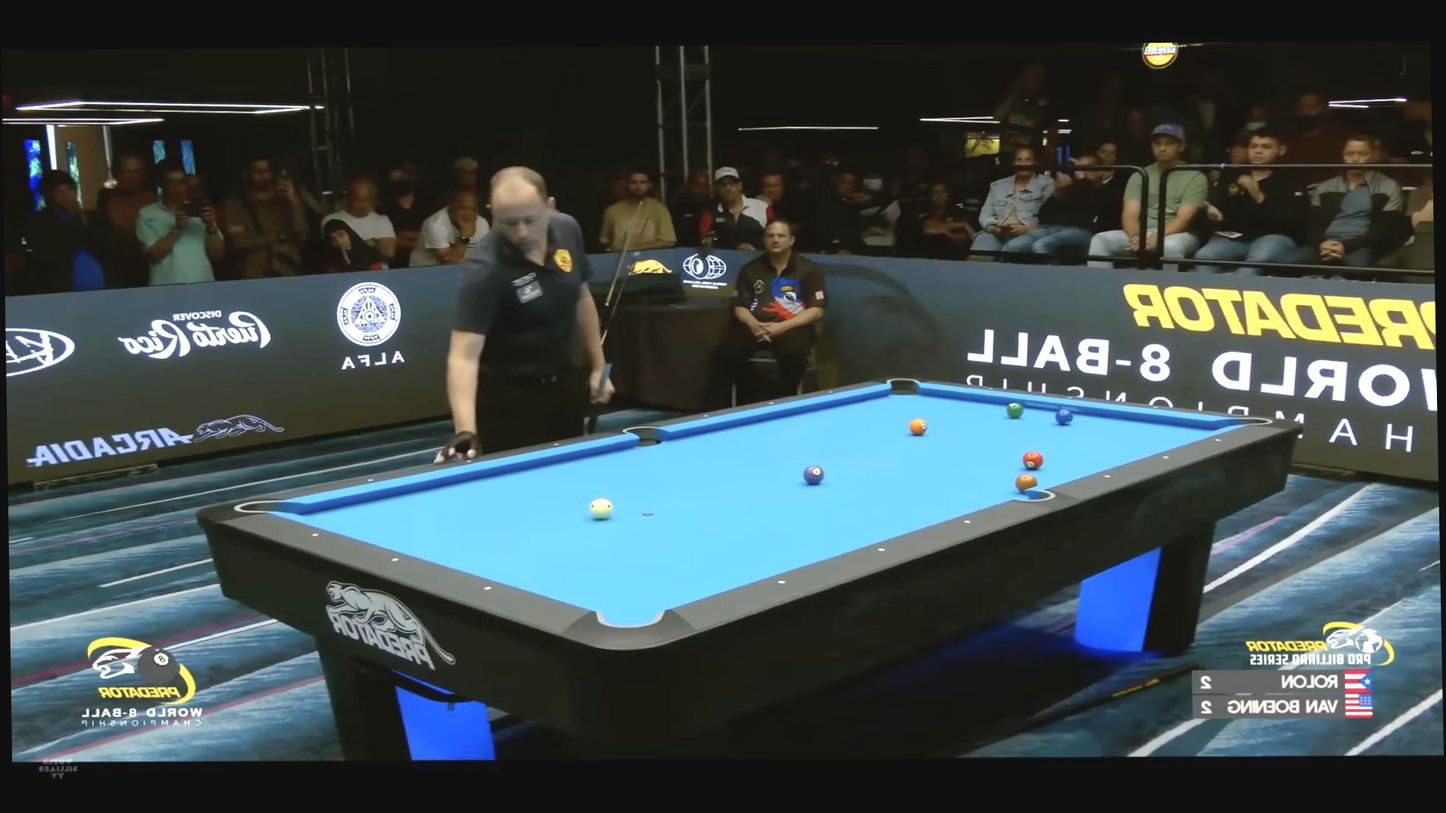Cue: (590, 498, 613, 520)
Solid: (775, 577, 788, 588), (875, 544, 888, 555), (961, 516, 974, 527), (1101, 472, 1112, 481), (1161, 453, 1172, 462), (483, 584, 493, 593), (310, 531, 320, 540), (365, 475, 375, 484), (463, 456, 473, 465), (551, 441, 561, 450), (1213, 436, 1223, 445), (391, 555, 400, 564), (1065, 393, 1073, 401), (1151, 404, 1160, 411), (987, 385, 995, 392), (768, 400, 775, 405), (703, 413, 709, 418), (828, 389, 834, 394)
Striped: (1015, 473, 1037, 493), (803, 465, 824, 485), (1022, 450, 1043, 469), (909, 418, 927, 435), (1055, 409, 1073, 425), (1006, 403, 1024, 418)
